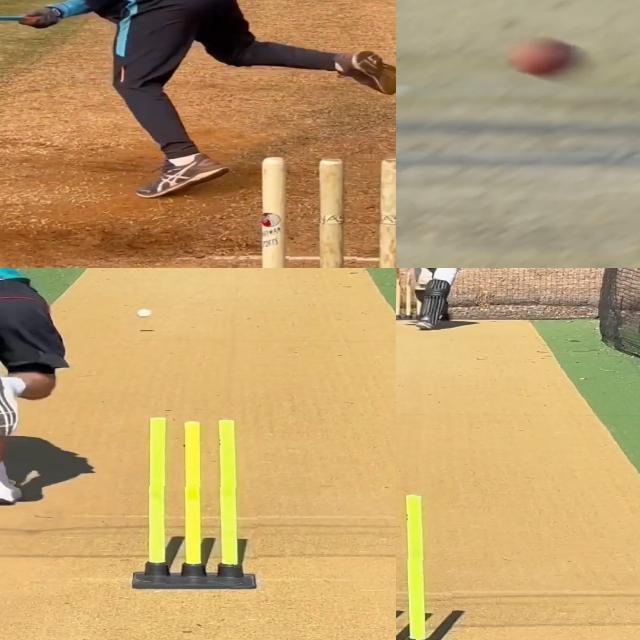Cricket ball: (506, 36, 592, 84), (135, 308, 154, 319)
Stumps: (133, 418, 259, 588), (256, 154, 396, 268), (396, 490, 452, 640), (396, 271, 424, 321)
